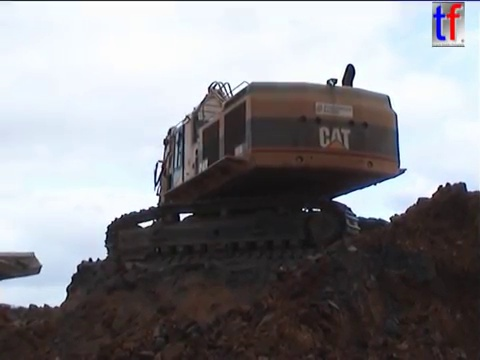excavator: (100, 60, 411, 269)
truck: (1, 248, 45, 284)
